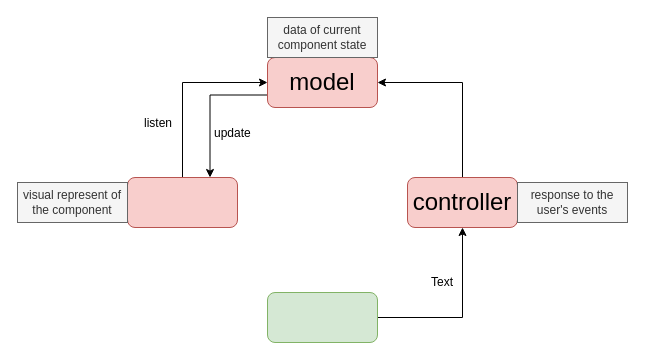
This 645x360 diagram has some shape labels left out. Each missing label, with the centre of its shape:
user: pixel 322 317
view: pixel 182 202
